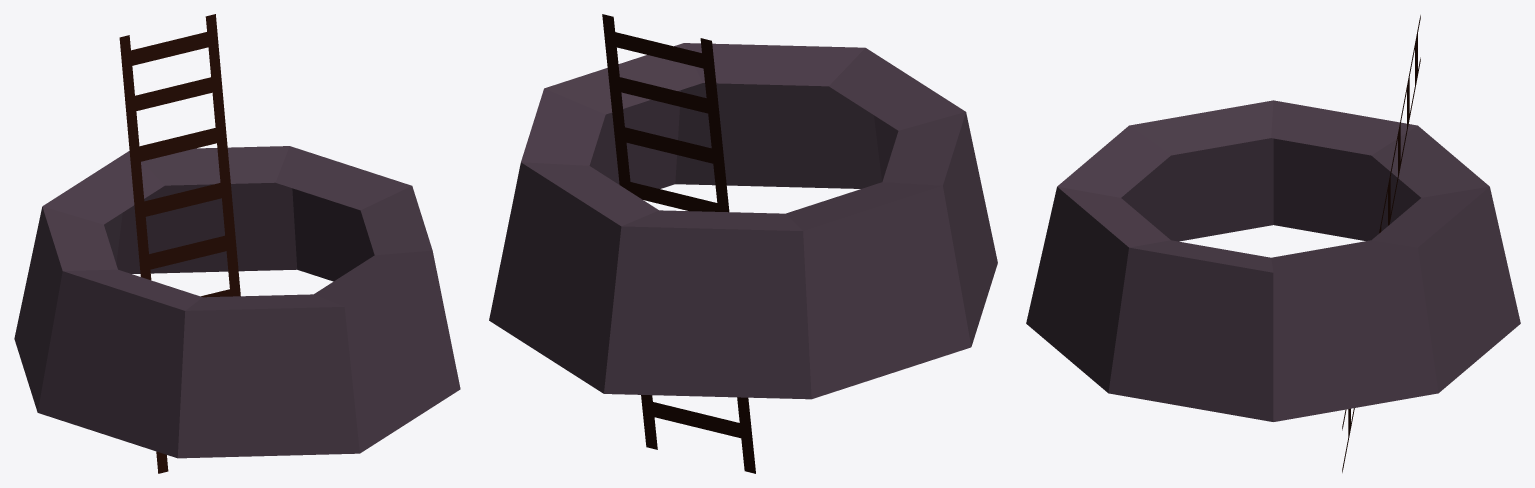
File: mine1.obj
3 views of the same model, side by side, from view 1: azimuth 30°, elevation 25°; view 2: azimuth 150°, elevation 25°; view 3: azimuth 270°, elevation 25° (orthographic). The views are drawn at different scales.
Visible parts, largest first — view 1: Cube, Plane.002; view 2: Cube, Plane.002; view 3: Cube, Plane.002.
Part boxes in pixels (box(x1,y1,x2,y2)): Cube: box(14, 146, 460, 458); Plane.002: box(119, 14, 240, 473); Cube: box(489, 43, 997, 399); Plane.002: box(602, 14, 755, 473); Cube: box(1026, 100, 1520, 421); Plane.002: box(1342, 15, 1420, 472).
Size of the model in its own units: 7.51 by 7.33 by 7.96.
